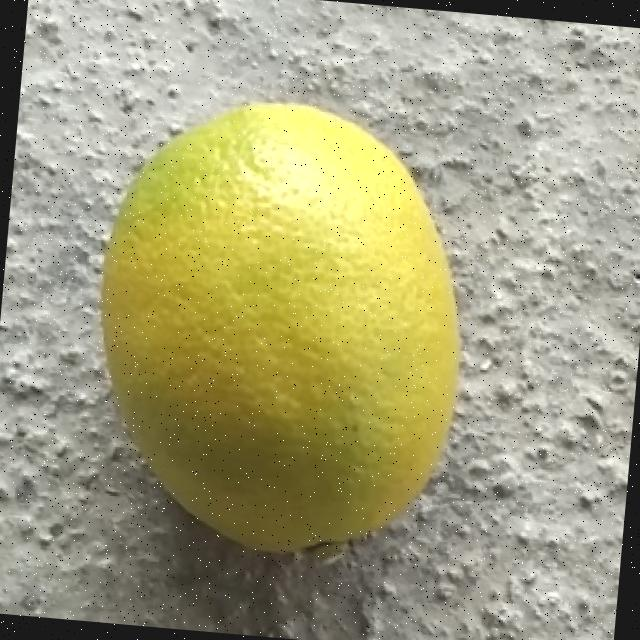Lemon: (73, 82, 480, 580)
